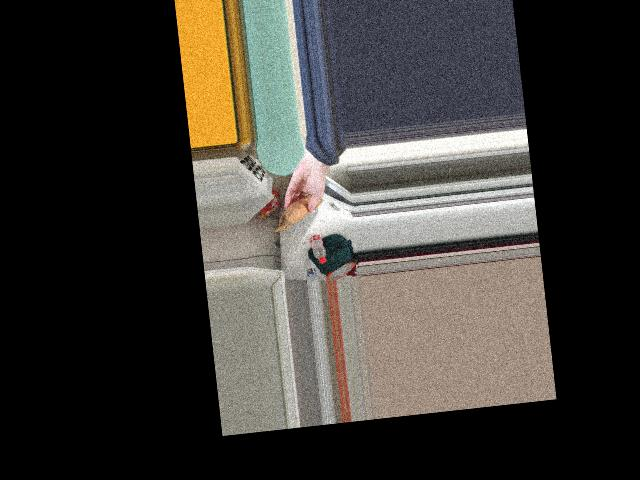sweet_potato: (284, 189, 320, 224)
